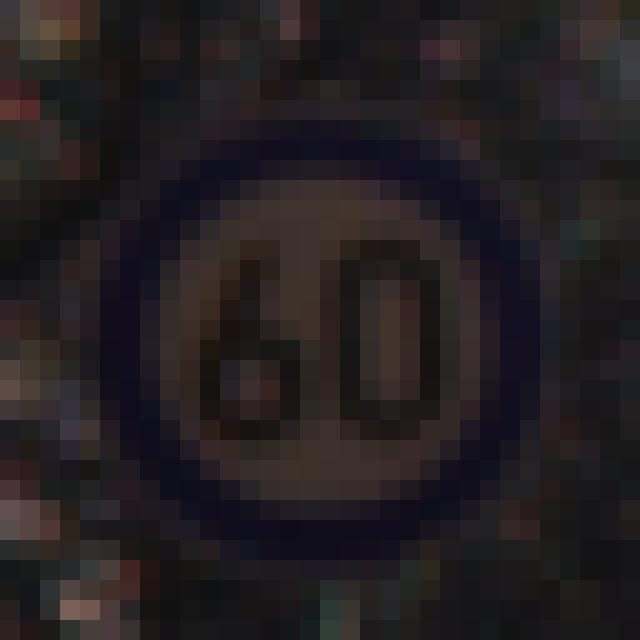SPEED-LIMIT-60: (77, 114, 570, 582)
